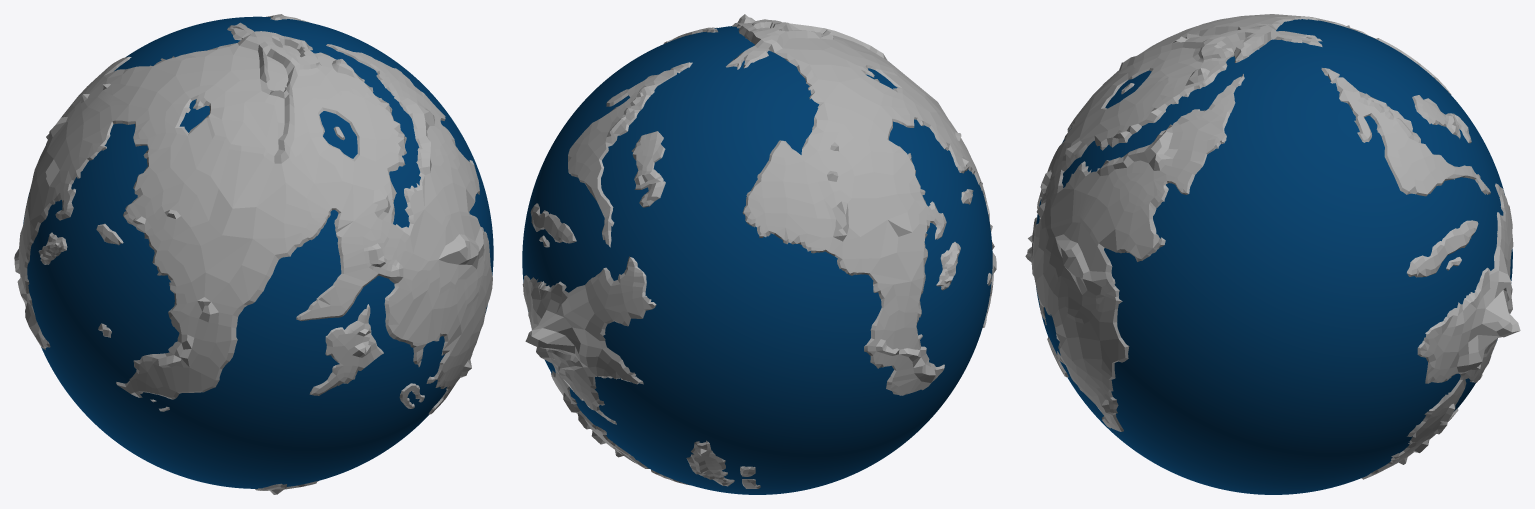
The model's file is MDL_Halyria.fbx.
3 views of the same model, side by side, from view 1: azimuth 30°, elevation 25°; view 2: azimuth 150°, elevation 25°; view 3: azimuth 270°, elevation 25° (orthographic).
Parts seen in each view (by area): view 1: surface, water; view 2: water, surface; view 3: water, surface.
Part boxes in pixels (x1=…): surface: x1=14, y1=14, x2=492, y2=494; water: x1=23, y1=16, x2=493, y2=488; water: x1=522, y1=26, x2=992, y2=494; surface: x1=522, y1=14, x2=996, y2=488; water: x1=1036, y1=19, x2=1512, y2=494; surface: x1=1025, y1=14, x2=1520, y2=479.
Size of the model in its own units: 2.09 by 2.15 by 2.15.
